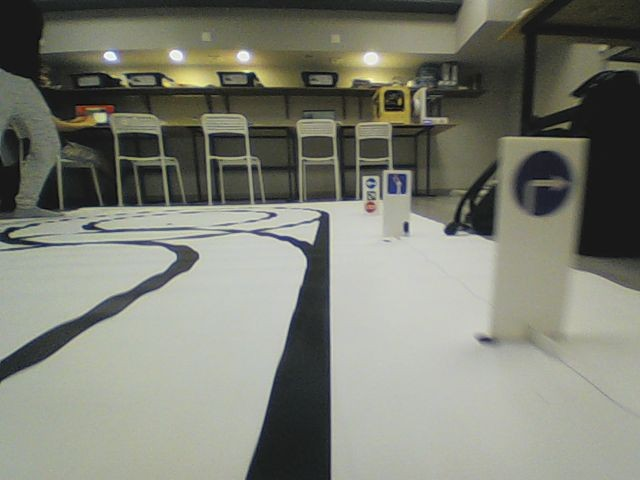Right: (513, 148, 573, 218)
priority_movement: (386, 171, 408, 196)
